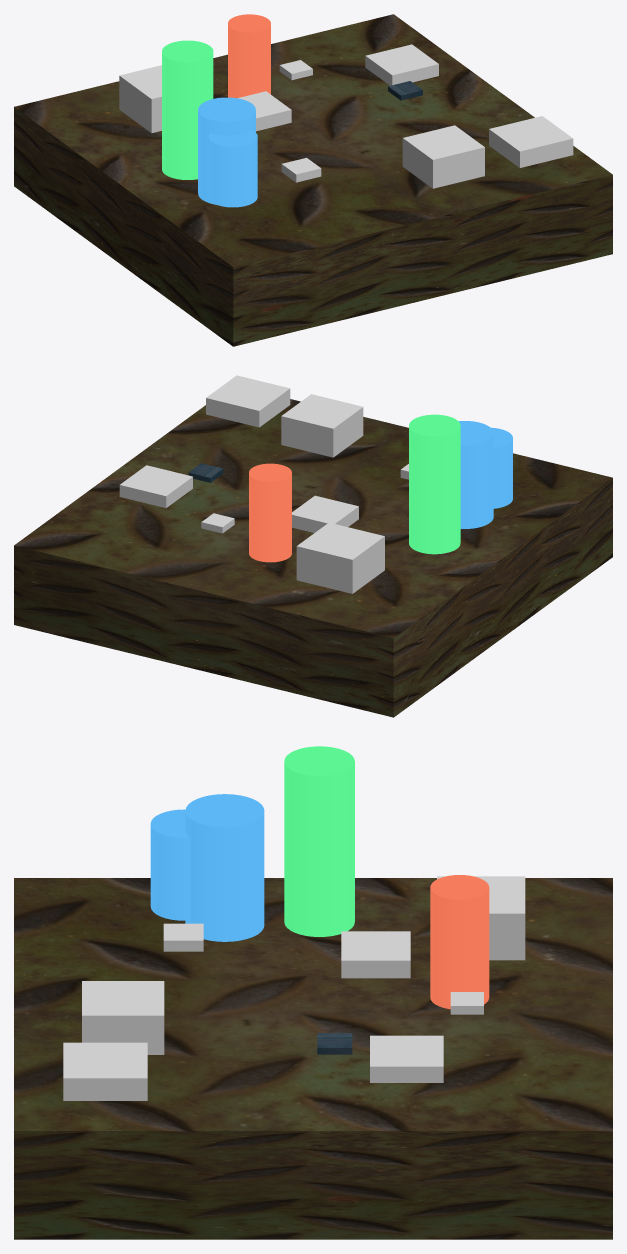
File: tech_chip_assembly.glb
3 renders of one model, top to bottom at view 1: azimuth 30°, elevation 25°; view 2: azimuth 150°, elevation 25°; view 3: azimuth 270°, elevation 25°, orthographic. The views are drawn at different scales.
Parts seen in each view (by area): view 1: TechChip_Base, TechCapacitor_1, TechComponent_2, TechCapacitor_0, TechCapacitor_2, TechComponent_1, TechCapacitor_3, TechComponent_4, TechComponent_7, TechComponent_5, TechComponent_6, TechComponent_3 (+1 smaller); view 2: TechChip_Base, TechCapacitor_1, TechComponent_4, TechCapacitor_2, TechComponent_2, TechCapacitor_3, TechComponent_1, TechComponent_7, TechComponent_5, TechCapacitor_0, TechComponent_3, TechComponent_0; view 3: TechChip_Base, TechCapacitor_1, TechCapacitor_3, TechCapacitor_2, TechComponent_2, TechComponent_1, TechCapacitor_0, TechComponent_7, TechComponent_5, TechComponent_4, TechComponent_6, TechComponent_0 (+1 smaller).
Part boxes in pixels (x1,y1,x2,y2): TechChip_Base: [14, 14, 612, 346]; TechCapacitor_1: [162, 40, 213, 179]; TechComponent_2: [402, 125, 484, 188]; TechCapacitor_0: [208, 129, 257, 207]; TechCapacitor_2: [228, 14, 270, 98]; TechComponent_1: [489, 116, 573, 167]; TechCapacitor_3: [198, 97, 255, 204]; TechComponent_4: [119, 65, 161, 133]; TechComponent_7: [365, 44, 438, 85]; TechComponent_5: [238, 91, 291, 131]; TechComponent_6: [281, 157, 321, 182]; TechComponent_3: [279, 60, 312, 80]; TechChip_Base: [14, 399, 612, 717]; TechCapacitor_1: [409, 414, 460, 554]; TechComponent_4: [296, 522, 384, 593]; TechCapacitor_2: [249, 463, 291, 562]; TechComponent_2: [281, 394, 363, 457]; TechCapacitor_3: [459, 421, 493, 528]; TechComponent_1: [206, 375, 290, 427]; TechComponent_7: [119, 465, 192, 507]; TechComponent_5: [292, 495, 358, 532]; TechCapacitor_0: [491, 427, 512, 508]; TechComponent_3: [201, 513, 234, 533]; TechComponent_0: [188, 463, 223, 482]; TechChip_Base: [14, 878, 612, 1239]; TechCapacitor_1: [284, 746, 354, 936]; TechCapacitor_3: [185, 794, 264, 941]; TechCapacitor_2: [430, 875, 489, 1009]; TechComponent_2: [82, 981, 164, 1054]; TechComponent_1: [63, 1042, 147, 1100]; TechCapacitor_0: [150, 809, 190, 920]; TechComponent_7: [370, 1035, 443, 1082]; TechComponent_5: [341, 931, 410, 978]; TechComponent_4: [437, 876, 525, 960]; TechComponent_6: [163, 923, 203, 951]; TechComponent_0: [317, 1033, 352, 1054].
Size of the model in its own units: 2 by 0.993 by 2.
5 materials, 2 textured.
